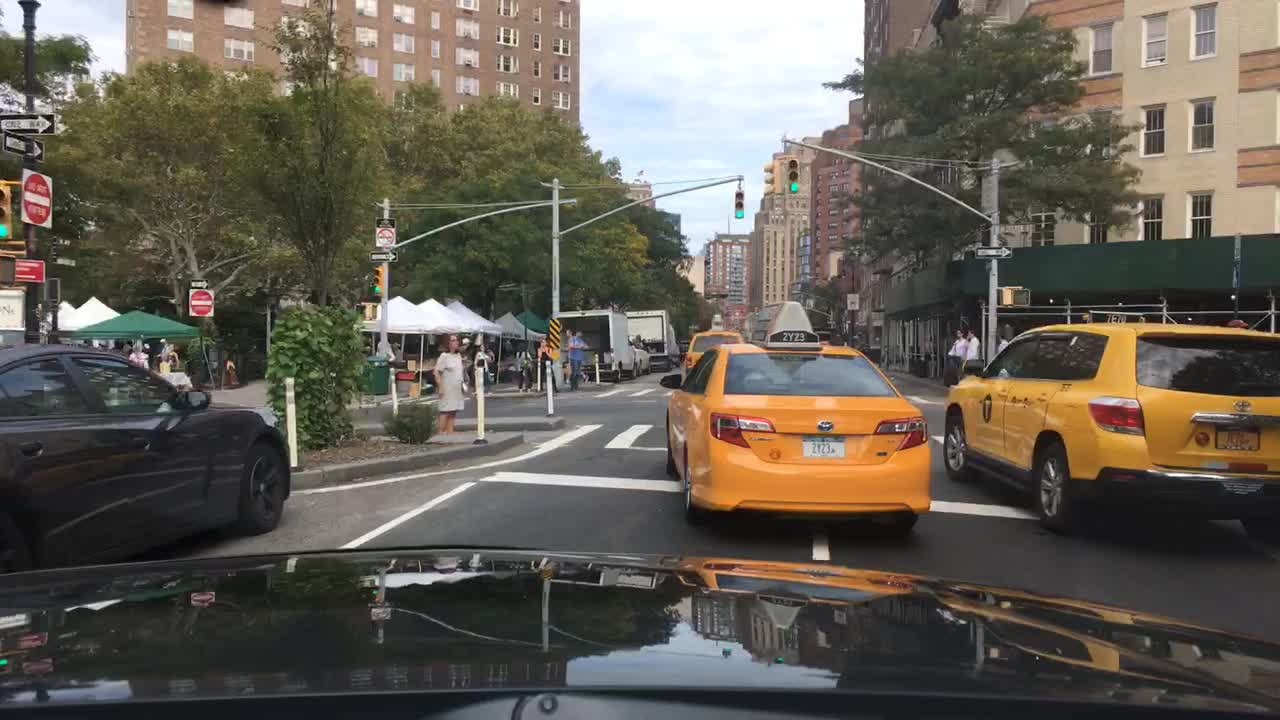car: (942, 320, 1278, 542), (2, 340, 292, 572), (659, 299, 935, 542), (687, 328, 748, 382), (636, 350, 651, 377)
person: (436, 328, 475, 439), (961, 328, 985, 387), (565, 329, 588, 390), (947, 329, 969, 385), (996, 335, 1015, 388), (515, 339, 532, 393), (127, 341, 150, 379)
traffic light: (1, 183, 14, 239), (788, 158, 804, 195), (765, 161, 782, 192), (735, 190, 744, 218)
traffic sign: (16, 168, 55, 230), (1, 113, 60, 133), (5, 133, 44, 159), (187, 286, 214, 319), (19, 260, 48, 282), (375, 217, 395, 246), (976, 242, 1012, 258), (369, 249, 397, 264), (187, 276, 209, 289), (848, 293, 859, 310)
truck: (556, 309, 638, 378), (630, 310, 682, 367)
